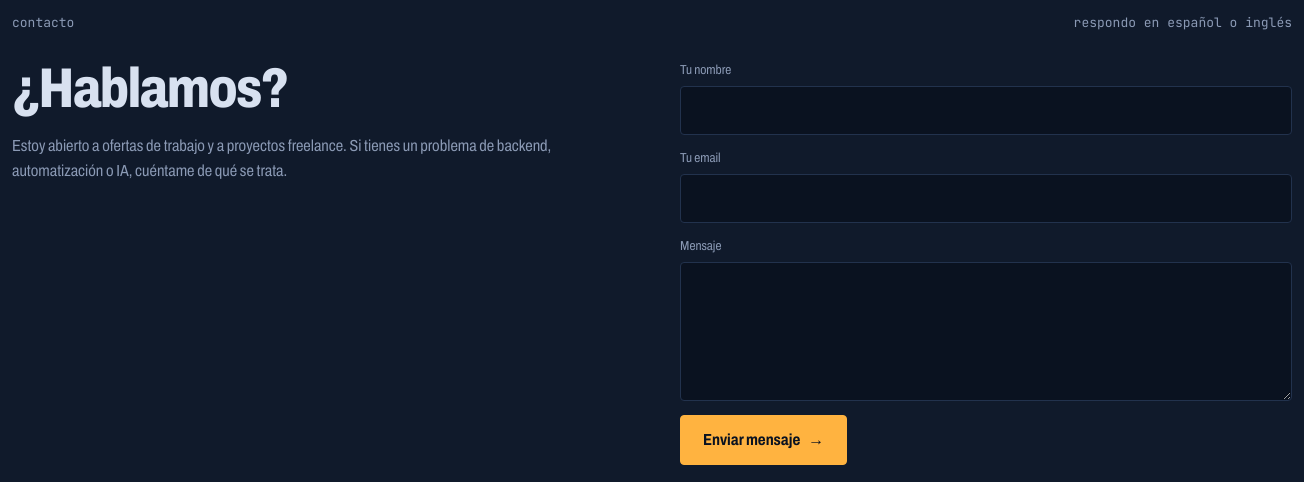
Test: Contact › disables the button and sets aria-busy while sending
Type "Ana" into the field labelled "Tu nombre" at (986, 110), box [680,86,1292,134]
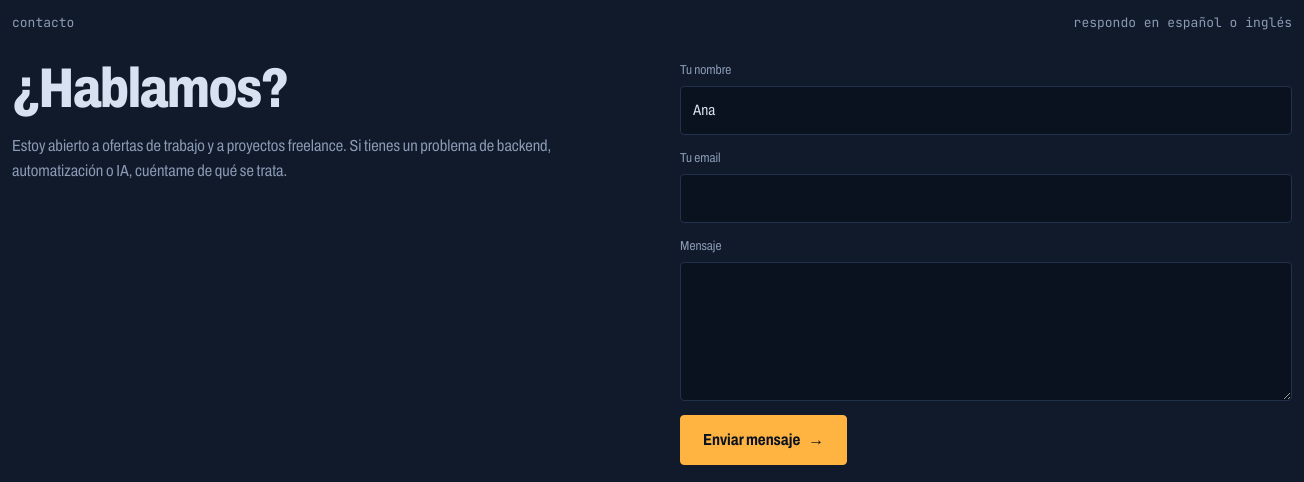
Type "ana@example.com" into the field labelled "Tu email" at (986, 198), box [680,174,1292,222]
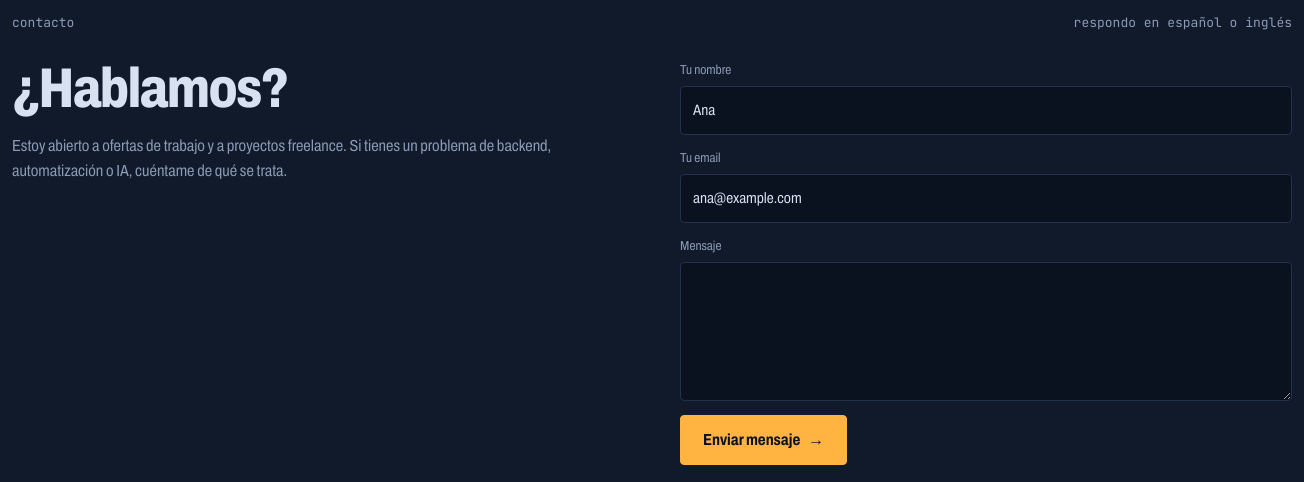
Type "Hola" into the text box labelled "Mensaje" at (986, 331), box [680,262,1292,400]
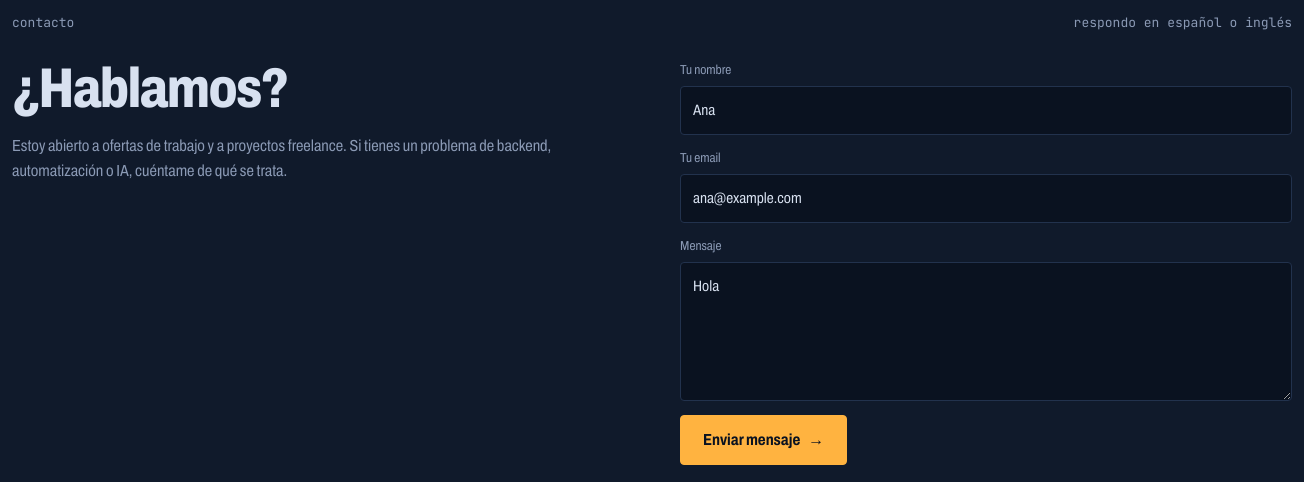
Click the button "Enviar mensaje →" at (764, 440), box [680,414,847,464]
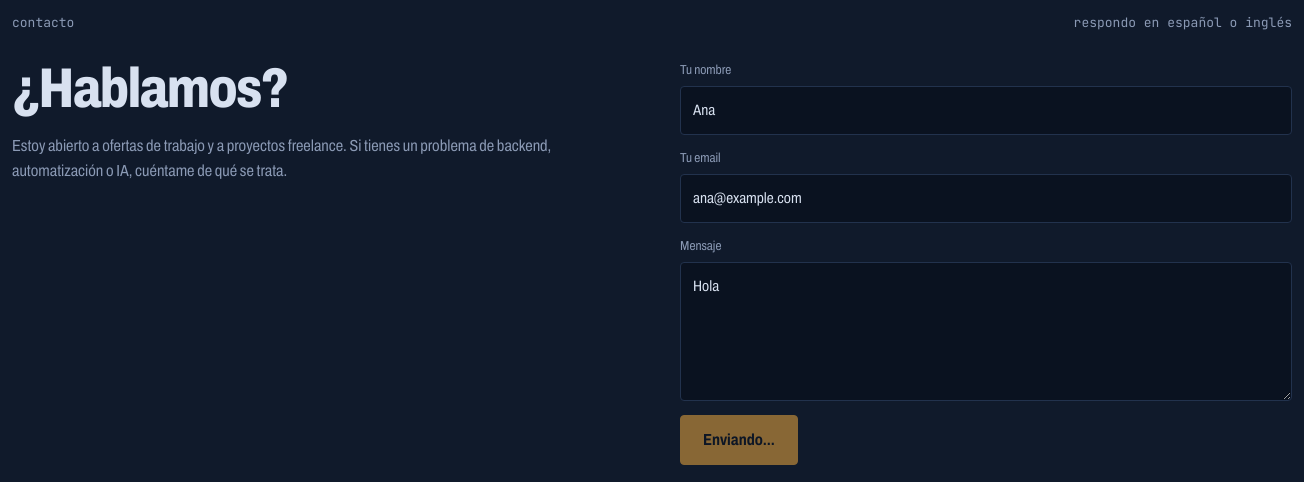
Expected: the button "Enviando..." is disabled, [680,414,798,464]
